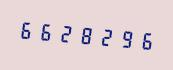eight: (74, 19, 92, 50)
nine: (112, 22, 130, 53)
six: (36, 15, 54, 47), (17, 14, 35, 45), (131, 24, 149, 55)
two: (93, 20, 111, 52), (55, 17, 73, 48)
